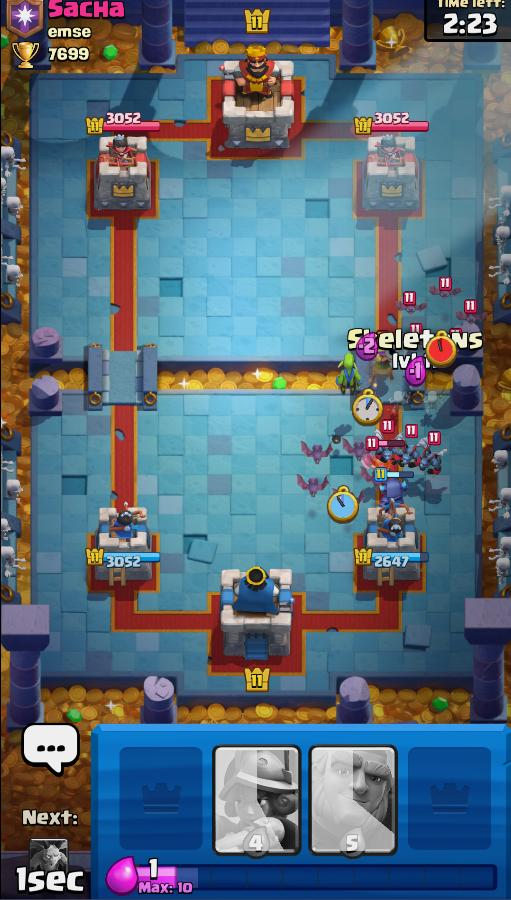bat: (295, 438, 338, 465), (289, 471, 333, 497), (343, 435, 376, 461), (358, 464, 394, 487), (451, 308, 492, 326), (332, 487, 365, 509), (396, 296, 427, 316), (429, 283, 463, 300)
gargouille: (396, 431, 428, 468), (374, 426, 405, 460), (418, 446, 448, 478)
gobelin: (337, 354, 363, 397)
mini_PEKKA: (375, 475, 412, 511)
mousquetaire: (366, 331, 399, 386)
squelette: (421, 387, 446, 415), (387, 391, 410, 415)
